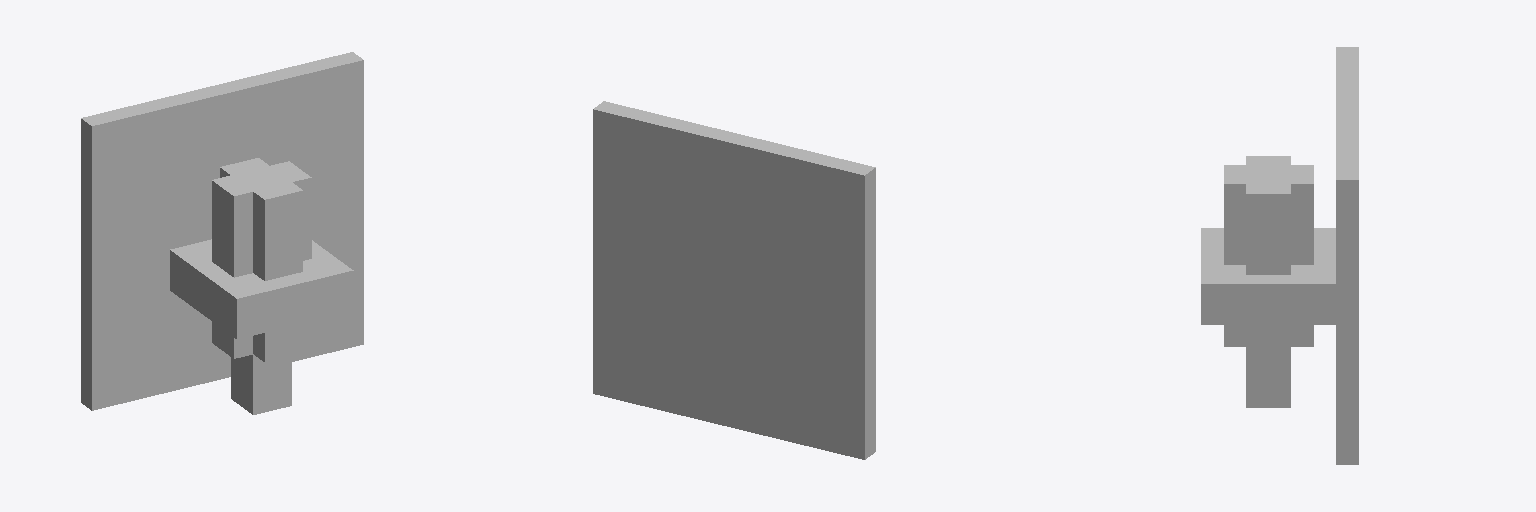
Rendered from GGJ torch.obj.
3 renders of one model, left to right at view 1: azimuth 30°, elevation 25°; view 2: azimuth 150°, elevation 25°; view 3: azimuth 270°, elevation 25°, orthographic.
Visible parts, largest first — view 1: object 1; view 2: object 1; view 3: object 1.
Part boxes in pixels (bbox=[...]): object 1: bbox=[81, 52, 363, 414]; object 1: bbox=[593, 101, 875, 459]; object 1: bbox=[1201, 47, 1358, 464].
Bounding box in the file's own units: 1.4 × 1.4 × 0.7.